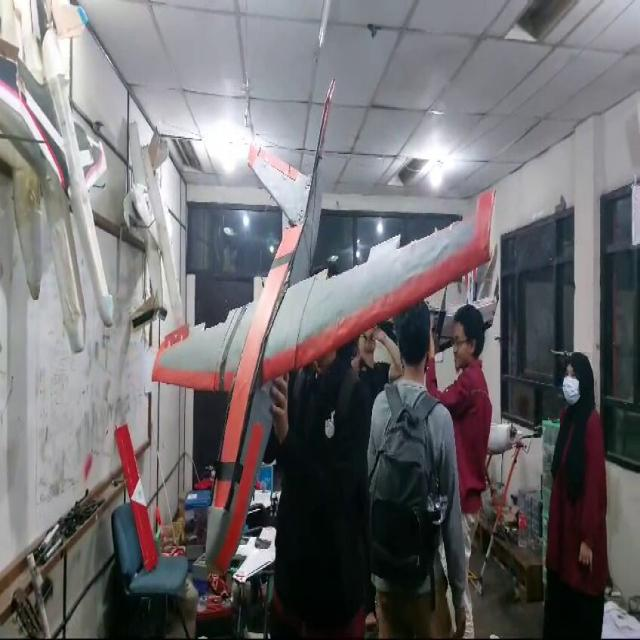plane: (145, 75, 500, 578)
